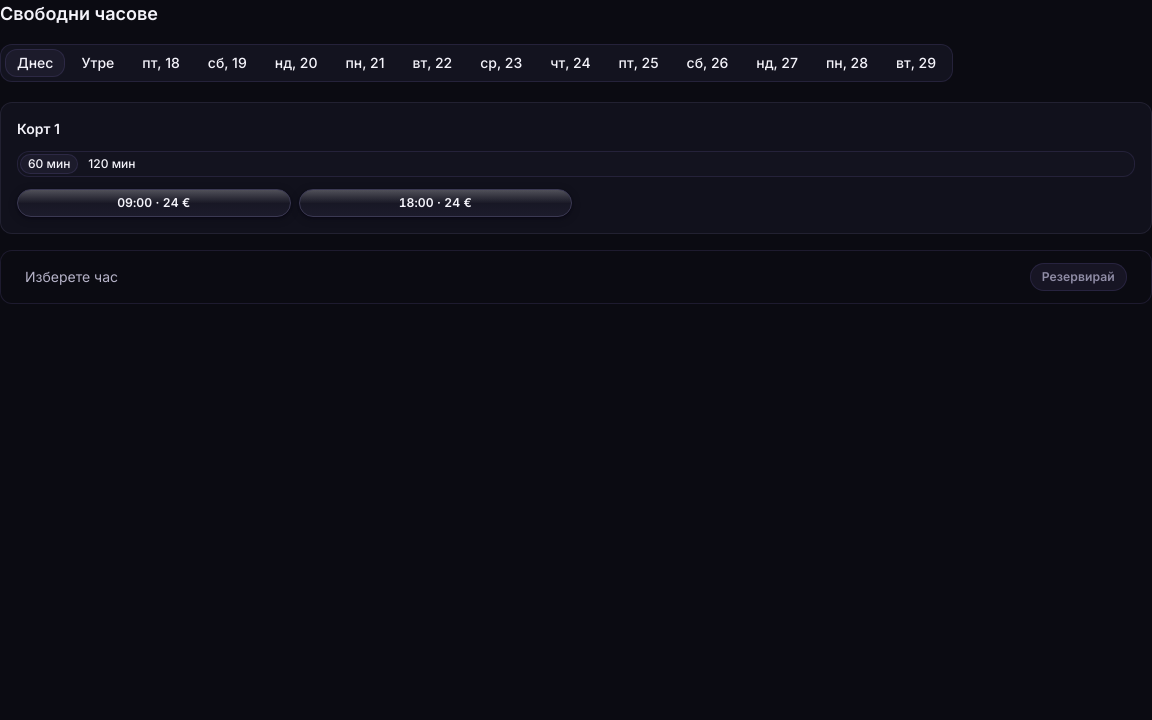
Test: the confirmation sheet › 403 NO_SHOW_BLOCKED: the server’s own words, and no confirm
Click the button "09:00 · 24 €" at x=154, y=203, box x1=17 y1=189 x2=290 y2=217
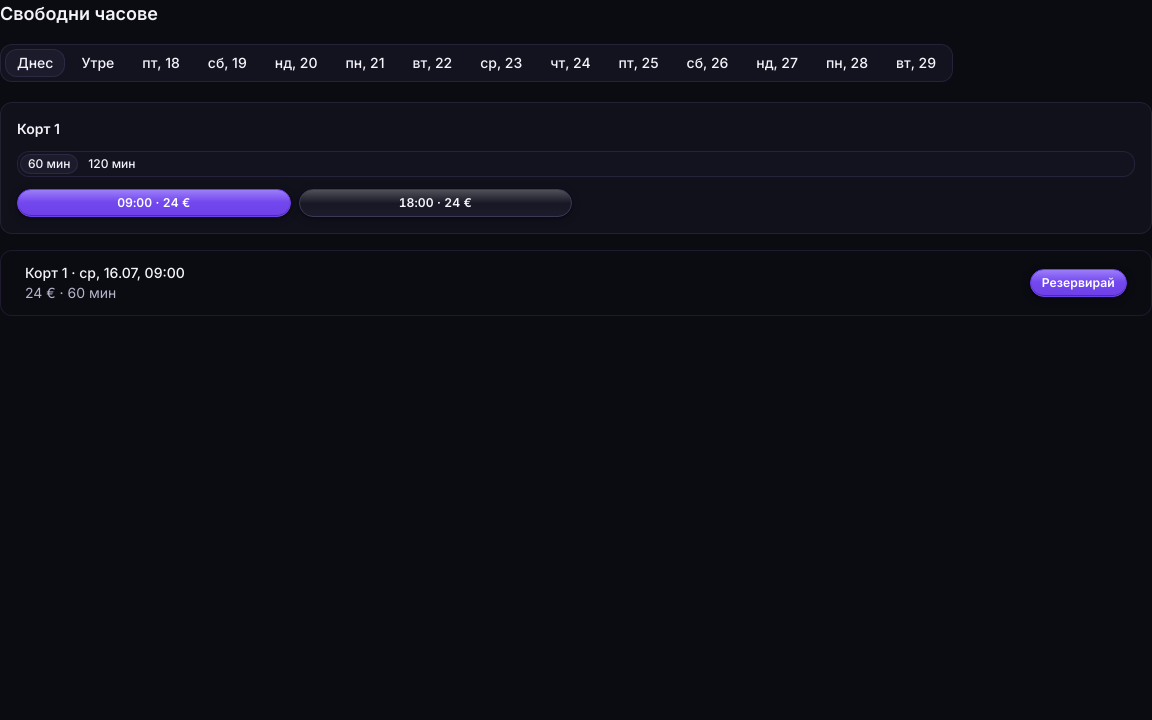
Click the button "Резервирай" at x=1078, y=283, box x1=1030 y1=269 x2=1127 y2=297
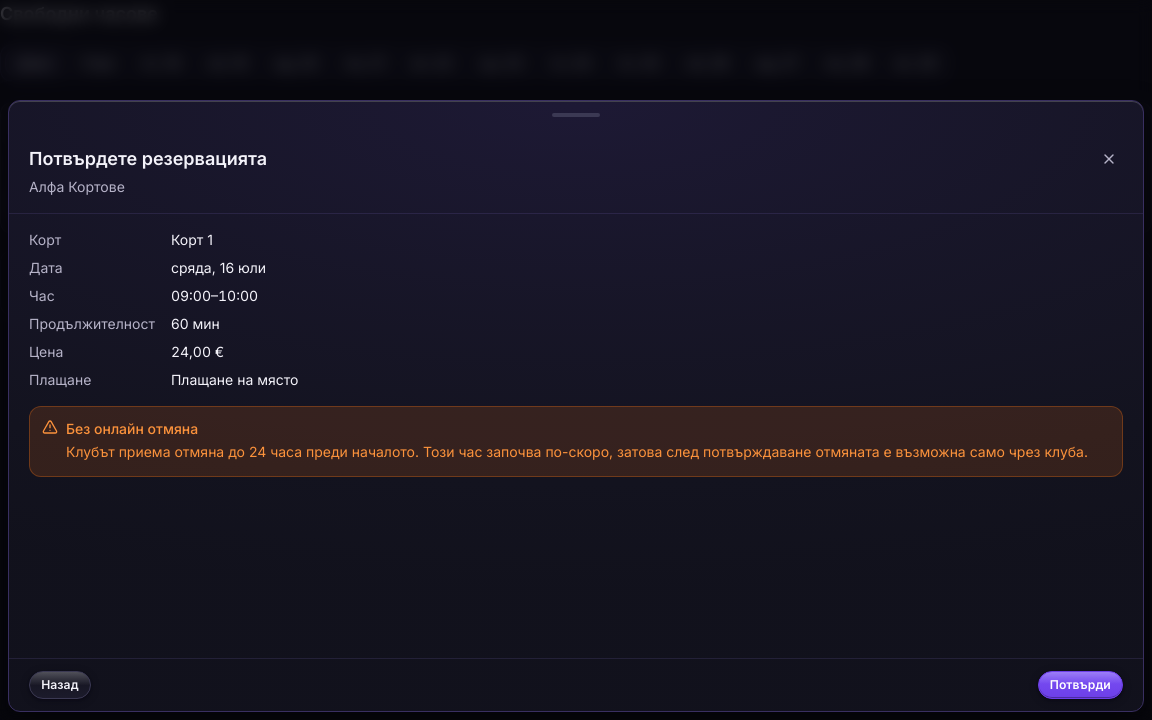
Click the button "Потвърди" at x=1080, y=685, box x1=1038 y1=671 x2=1123 y2=699
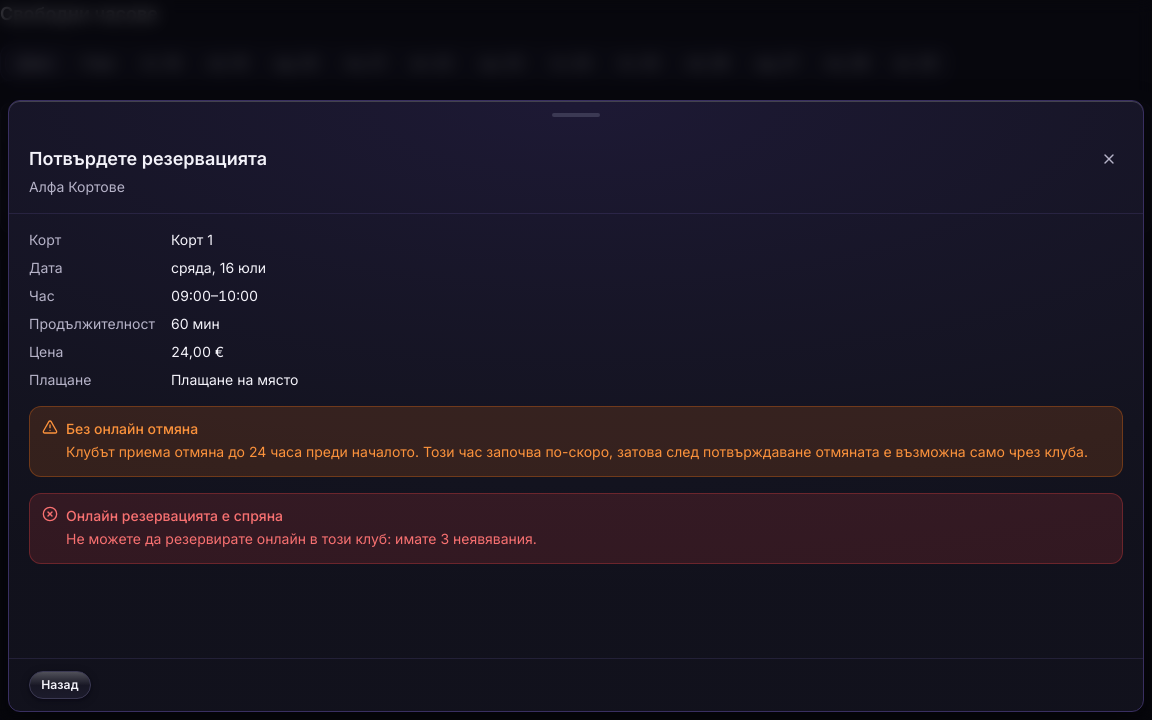
Expected: the text "Не можете да резервирате онлайн в този клуб: имате 3 неявявания." is shown, x1=66 y1=530 x2=537 y2=547
Expected: the text "Онлайн резервацията е спряна" is shown, x1=66 y1=507 x2=283 y2=524
Expected: the button "Потвърди" is gone
